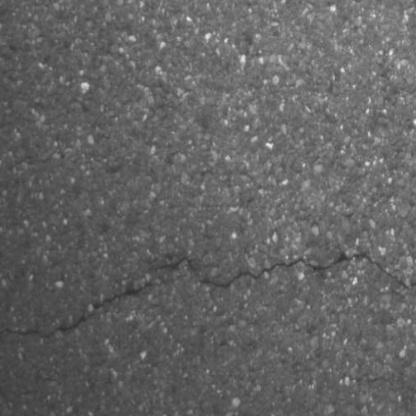Cracks: (0, 278, 175, 351), (153, 250, 416, 295)
